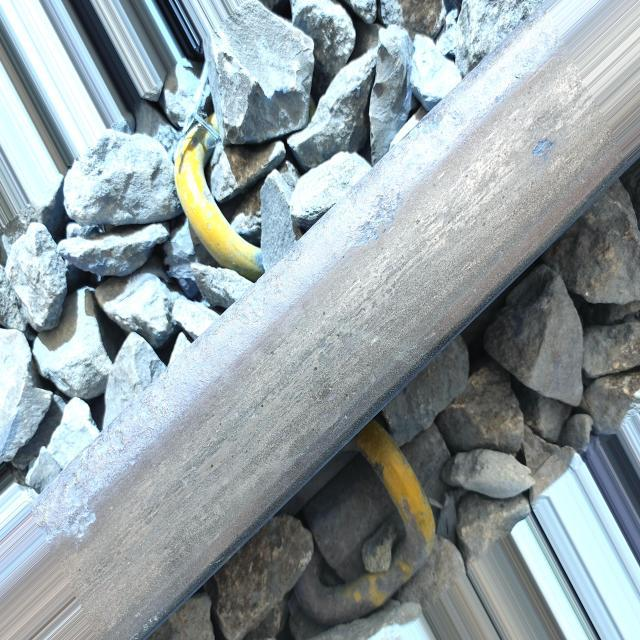Good Fasteners: (274, 415, 480, 631), (164, 118, 278, 281)
